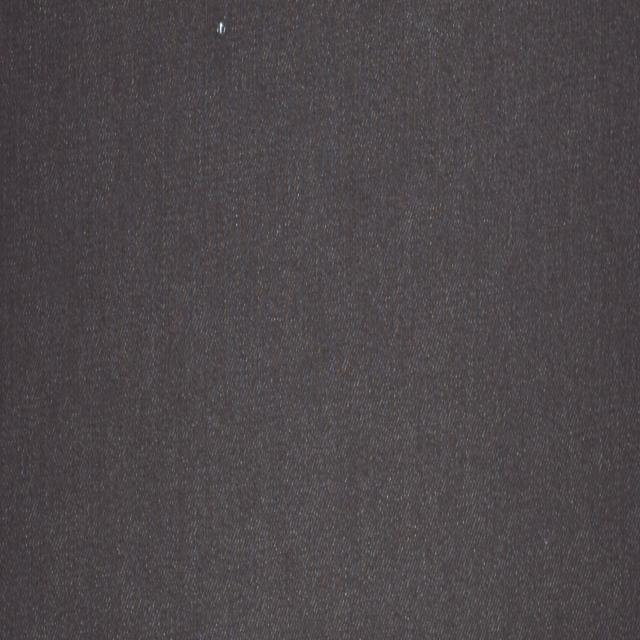Knot: (216, 20, 226, 34)
